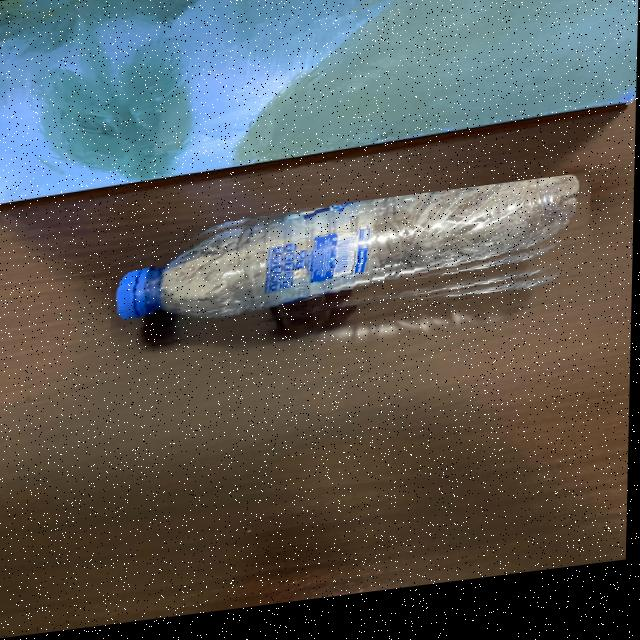litter: (112, 187, 595, 355)
